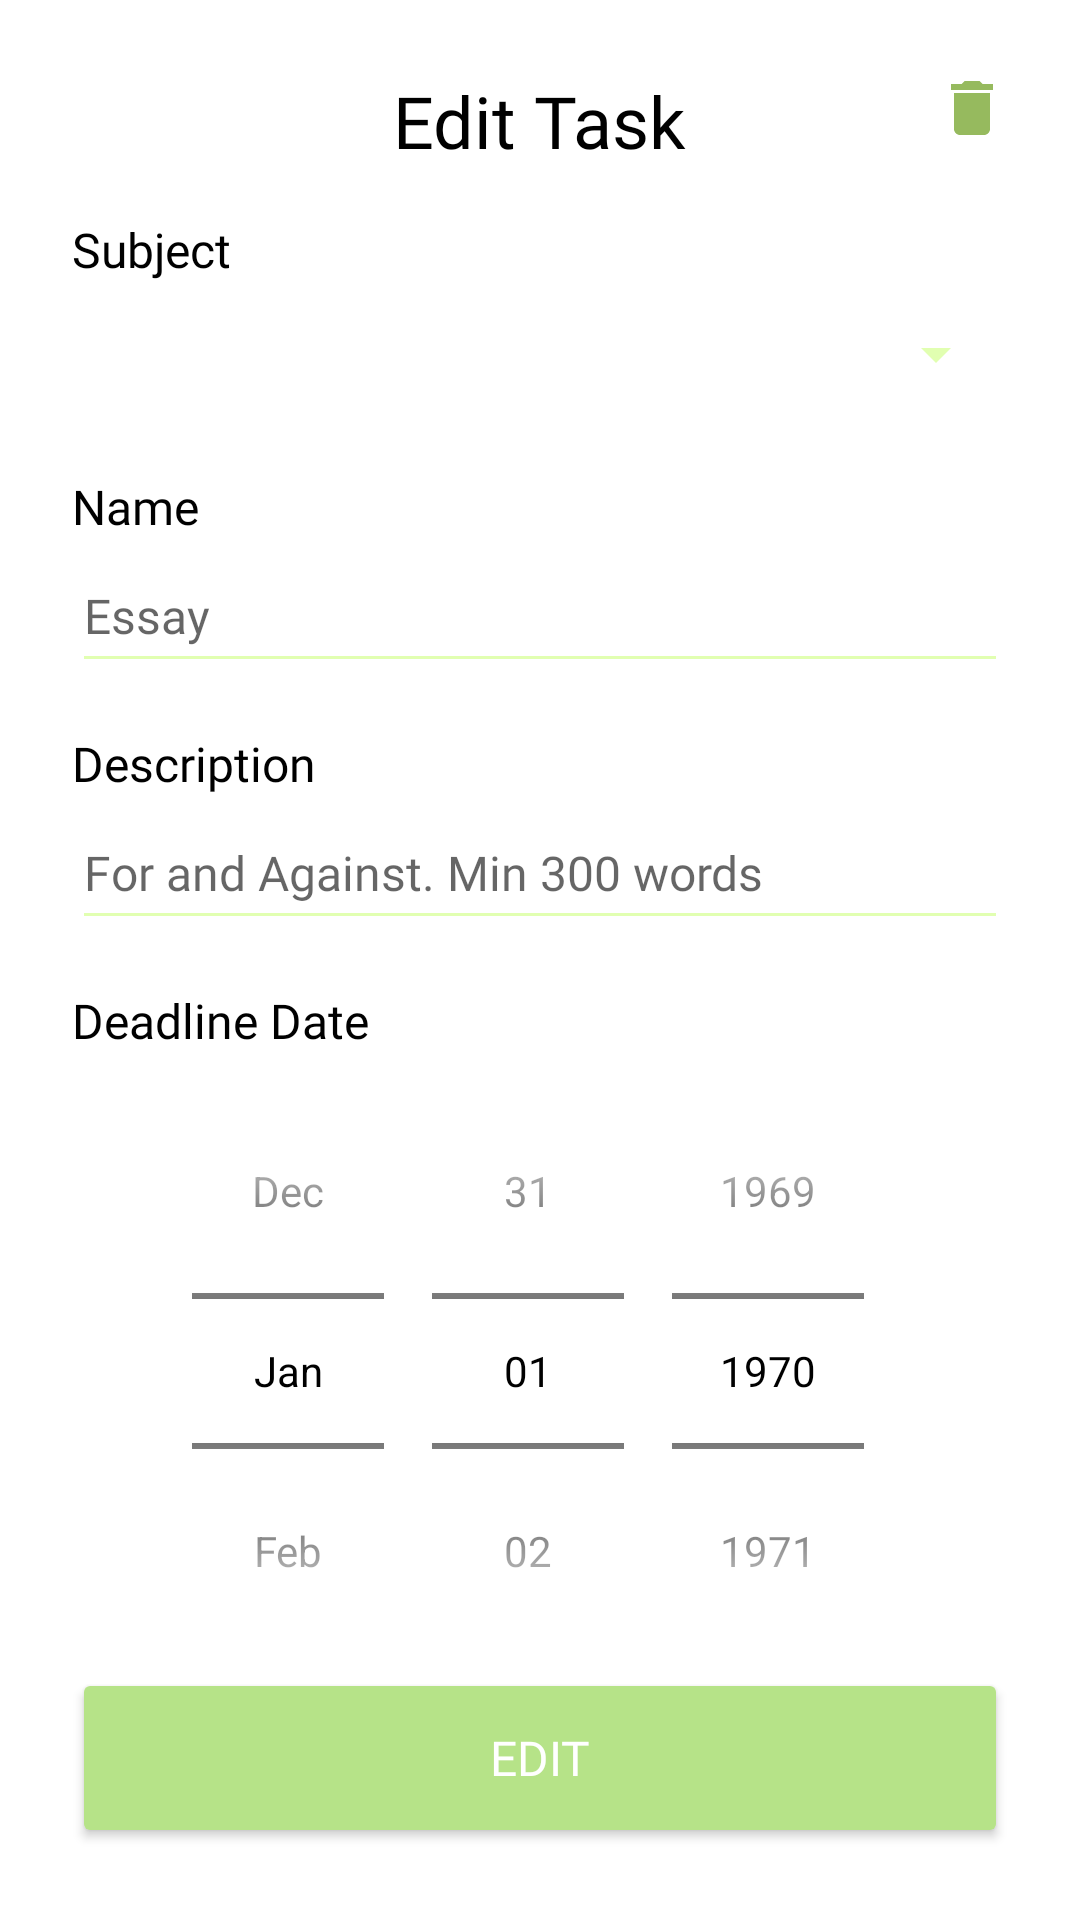

Icons on this 1080w x 1920h Android screen, each with its box as rect(x1, y1, x2, y2):
delete: rect(951, 81, 993, 135)
